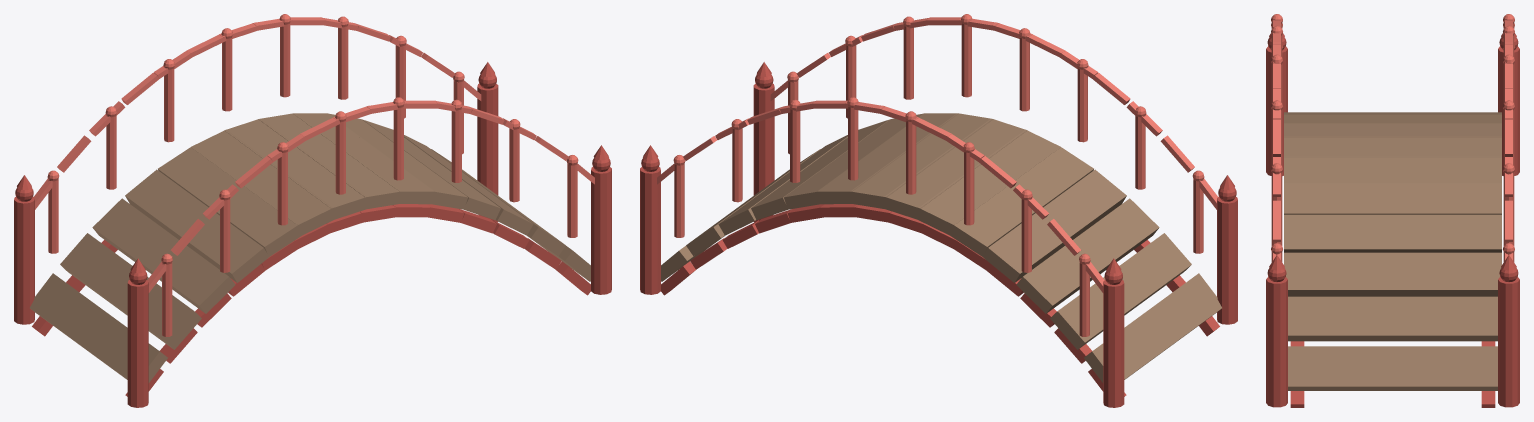
Rendered from drum_bridge.glb.
3 views of the same model, side by side, from view 1: azimuth 30°, elevation 25°; view 2: azimuth 150°, elevation 25°; view 3: azimuth 270°, elevation 25° (orthographic). The views are drawn at different scales.
Parts seen in each view (by area): view 1: drum_bridge; view 2: drum_bridge; view 3: drum_bridge.
Part boxes in pixels (box(x1,y1,x2,y2)): drum_bridge: box(14, 14, 611, 407); drum_bridge: box(640, 14, 1237, 407); drum_bridge: box(1266, 14, 1519, 407).
Bounding box in the file's own units: 4.15 × 2.07 × 1.86.
